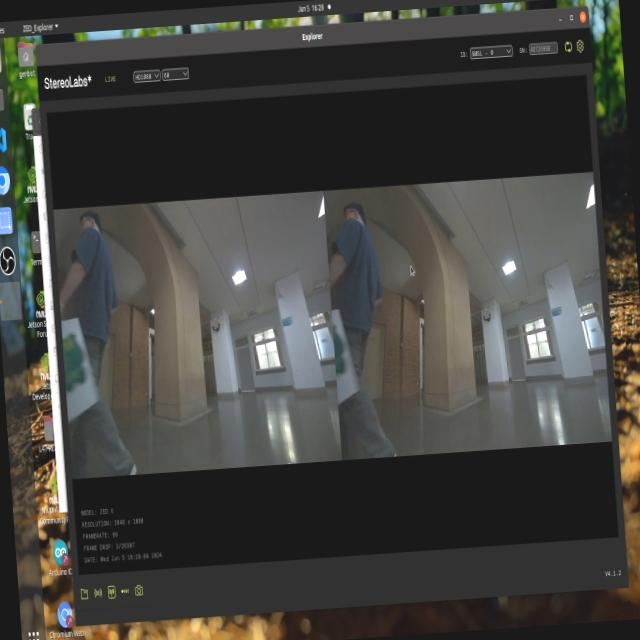green: (58, 316, 94, 390)
